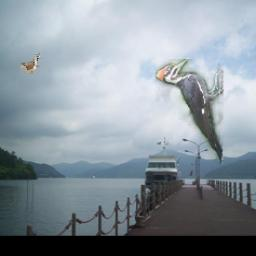Cuckoo: (19, 53, 40, 75)
Woodpecker: (154, 59, 223, 164)
